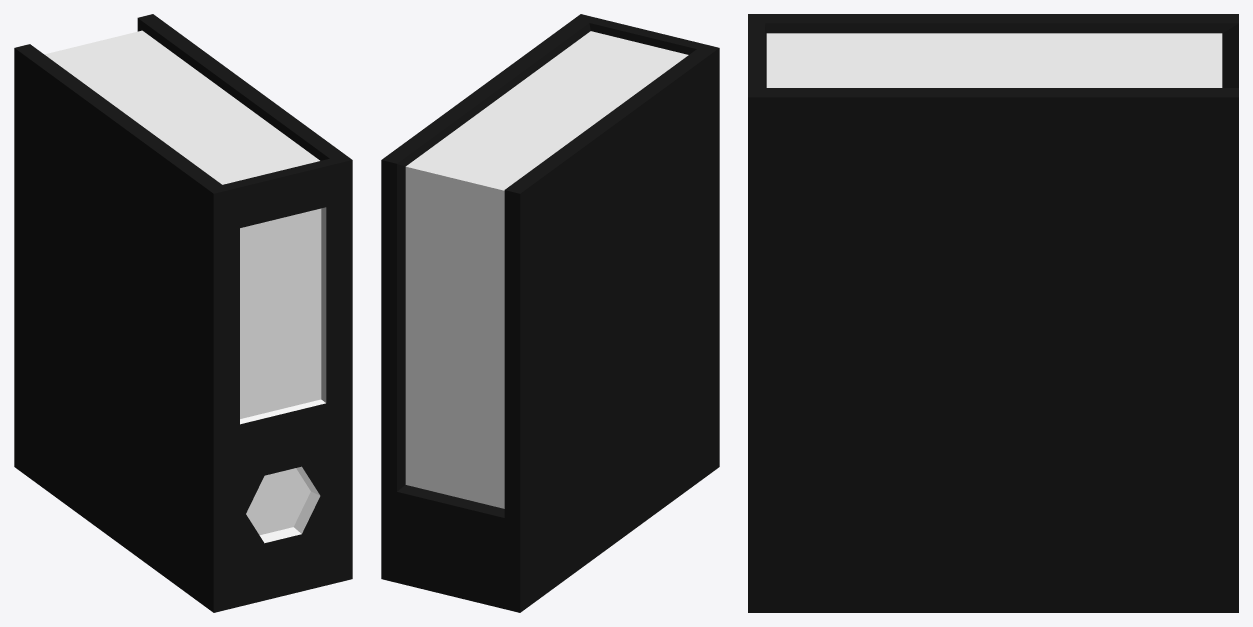
File: folder for documents black.fbx
3 renders of one model, left to right at view 1: azimuth 30°, elevation 25°; view 2: azimuth 150°, elevation 25°; view 3: azimuth 270°, elevation 25°, orthographic. The views are drawn at different scales.
Visible parts, largest first — view 1: folder for documents black; view 2: folder for documents black; view 3: folder for documents black.
Part boxes in pixels (<box>): folder for documents black: <box>14,14,352,612</box>; folder for documents black: <box>381,14,719,612</box>; folder for documents black: <box>748,14,1238,612</box>.
Size of the model in its own units: 0.1659 by 0.4787 by 0.4129.
Materials: 1 (1 with a texture image).
